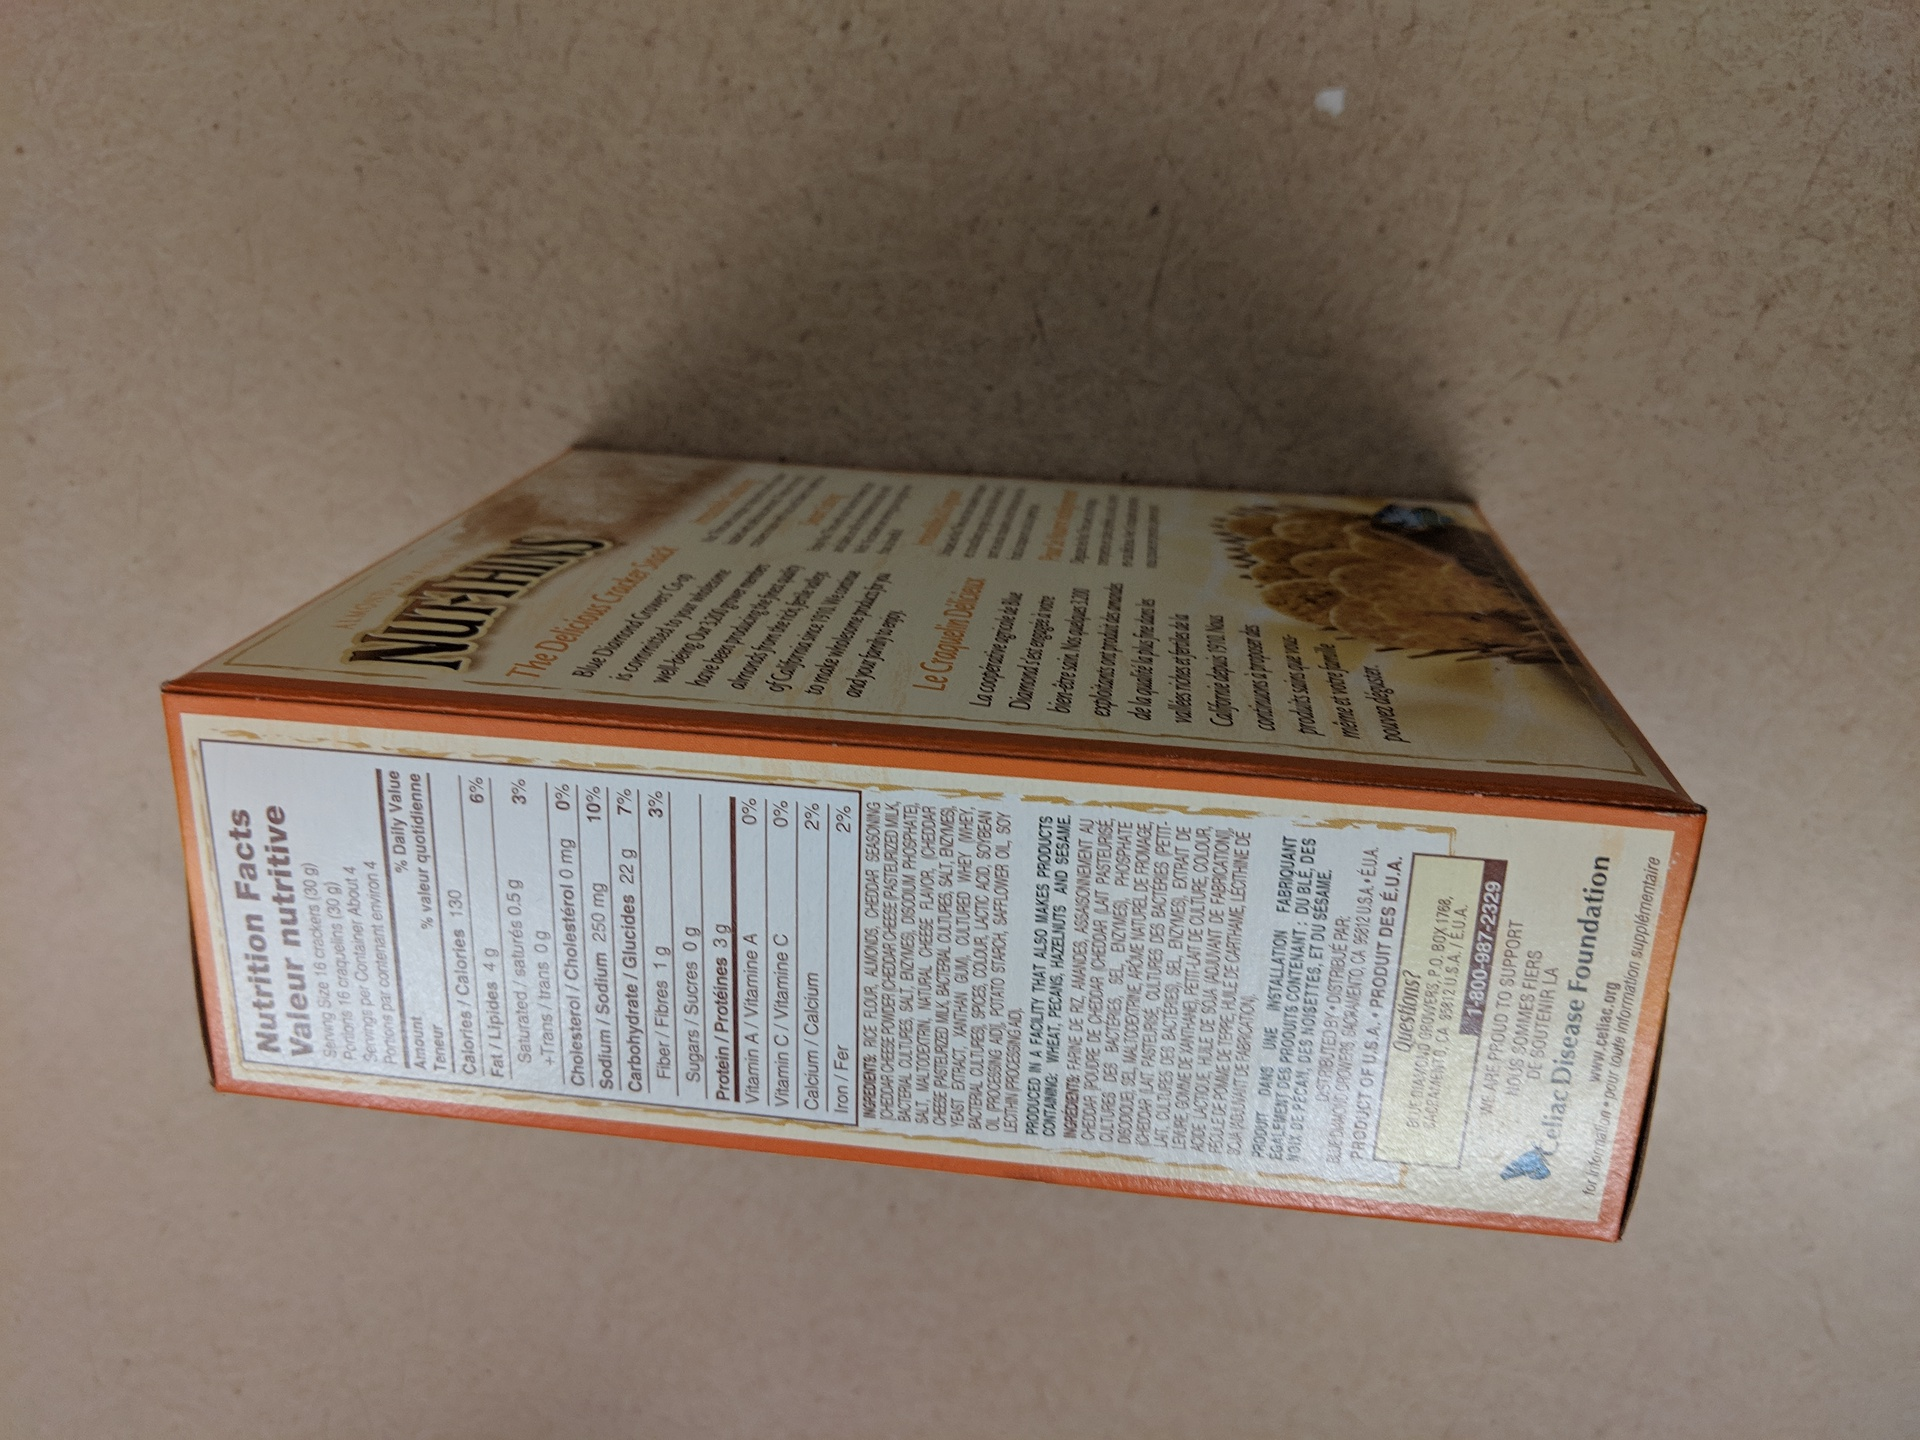blue_diamond_nut_thins_almond_cheddar: (150, 414, 1742, 1293)
